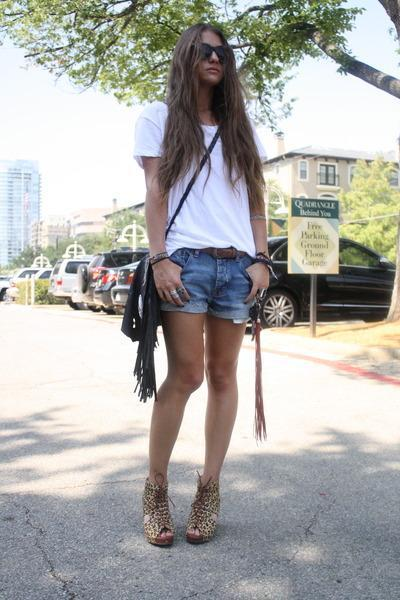shirt: (136, 100, 254, 256)
shoe: (141, 479, 219, 548)
shorts: (156, 246, 260, 323)
